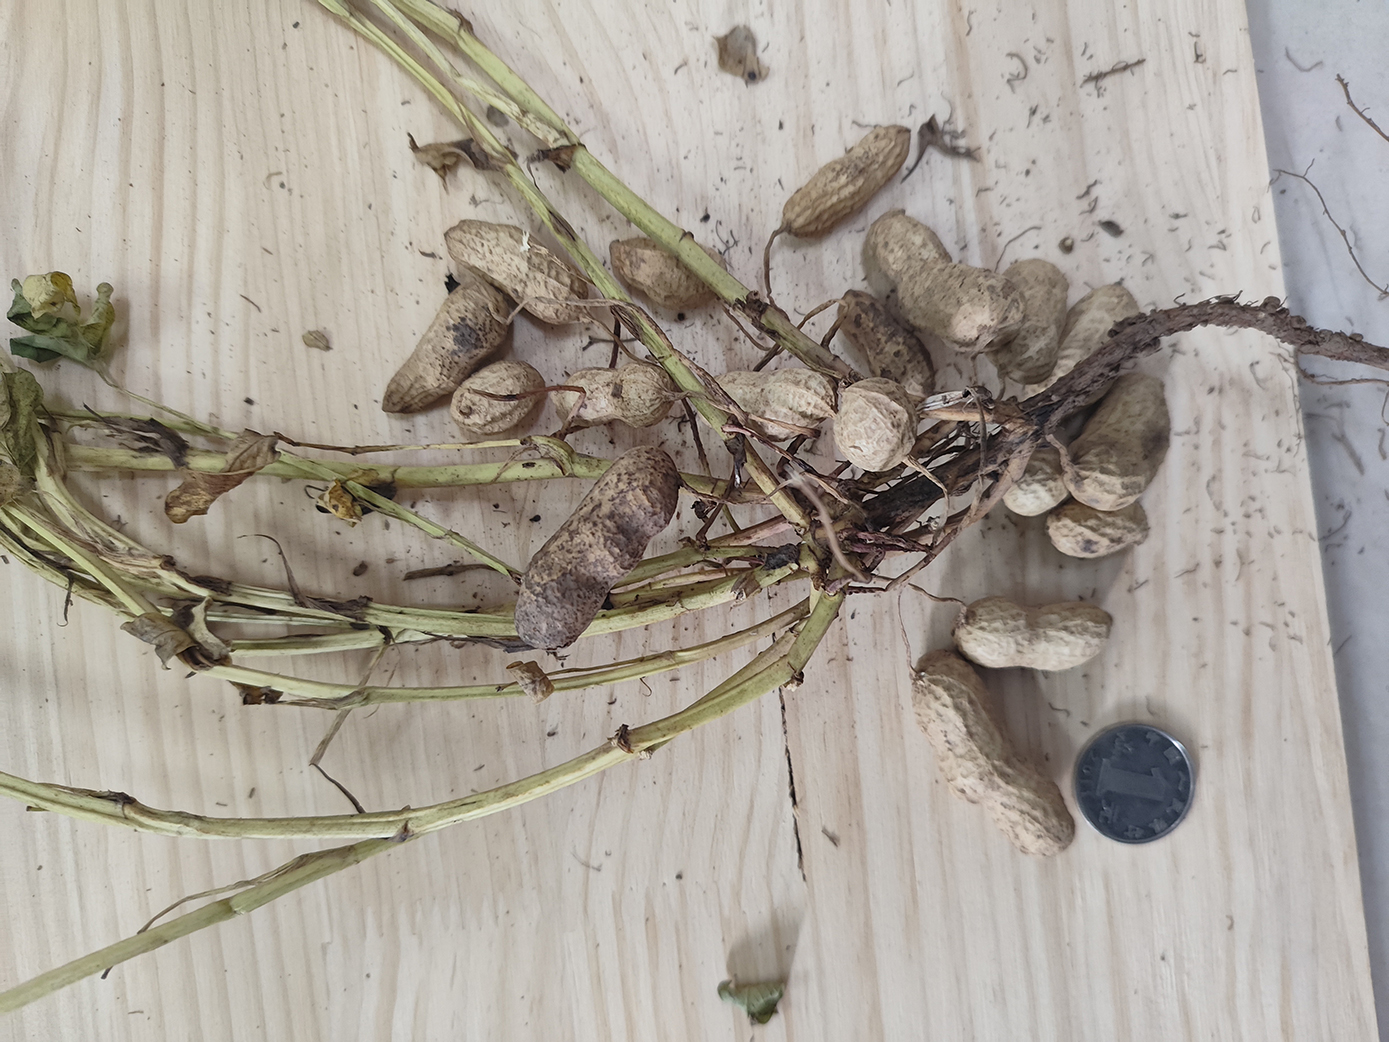h: (913, 652, 1075, 855), (860, 205, 1020, 356), (381, 283, 519, 416), (444, 218, 589, 326), (784, 126, 913, 235), (1067, 373, 1165, 513), (1047, 285, 1136, 409), (958, 599, 1113, 670), (840, 287, 933, 405), (609, 239, 730, 314), (702, 370, 835, 435), (997, 260, 1064, 382), (553, 367, 673, 430), (838, 378, 915, 474), (449, 361, 546, 436), (1050, 500, 1156, 561), (996, 441, 1072, 516)
l: (512, 447, 679, 651)
